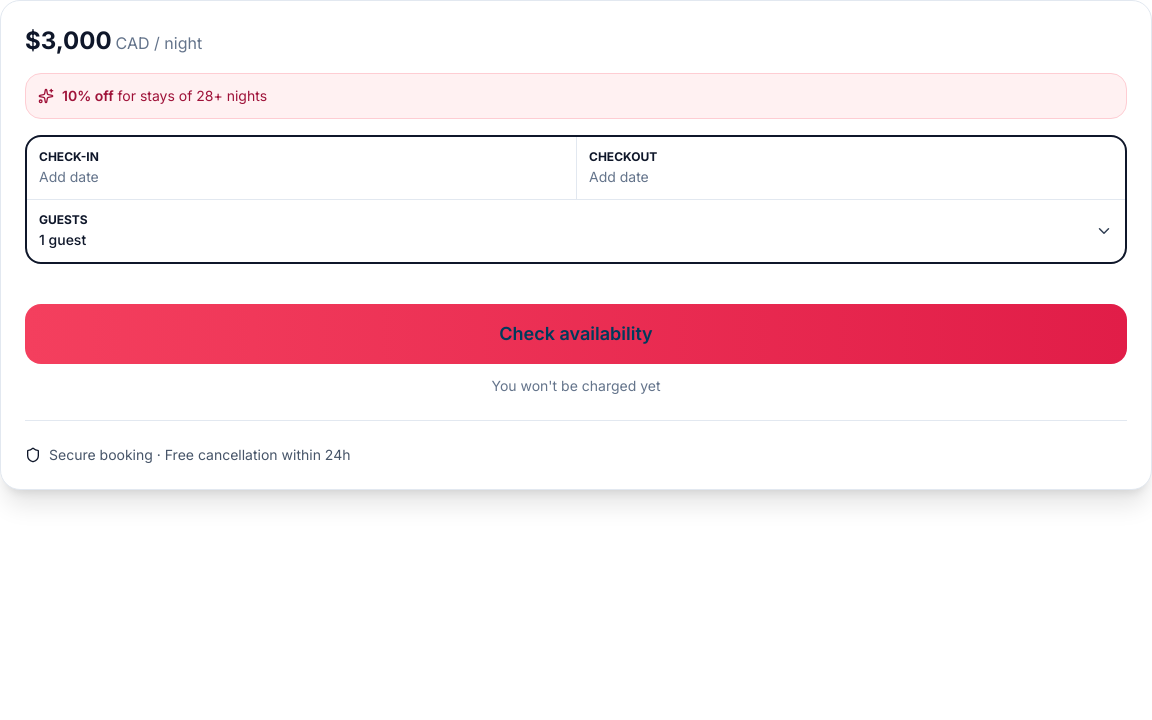
Test: BookingCard › shows validation when reserve without dates
This screenshot has width=1152, height=720.
Click the button "Check availability" at (576, 334), box [25, 304, 1127, 364]
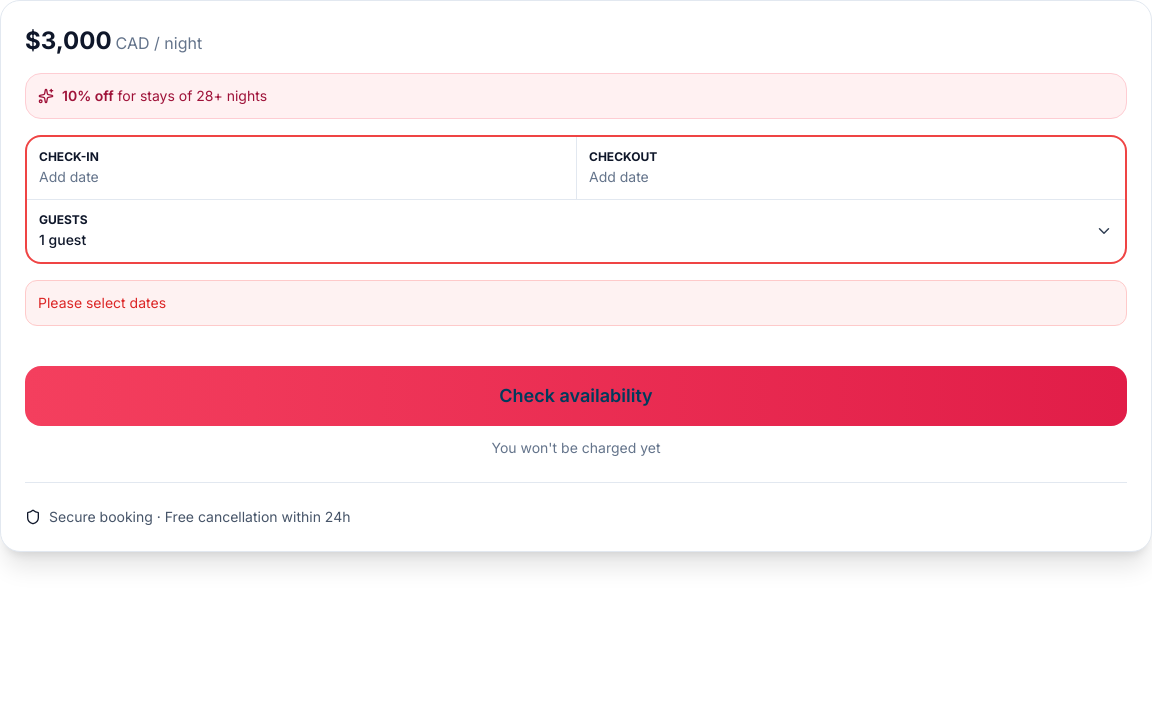
Result: the text "Please select dates" is shown at [25, 280, 1127, 326]
